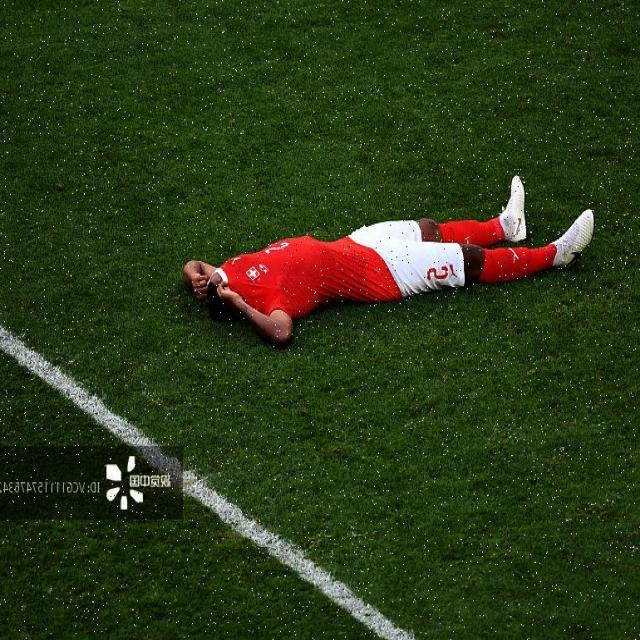fall: (187, 176, 590, 340)
